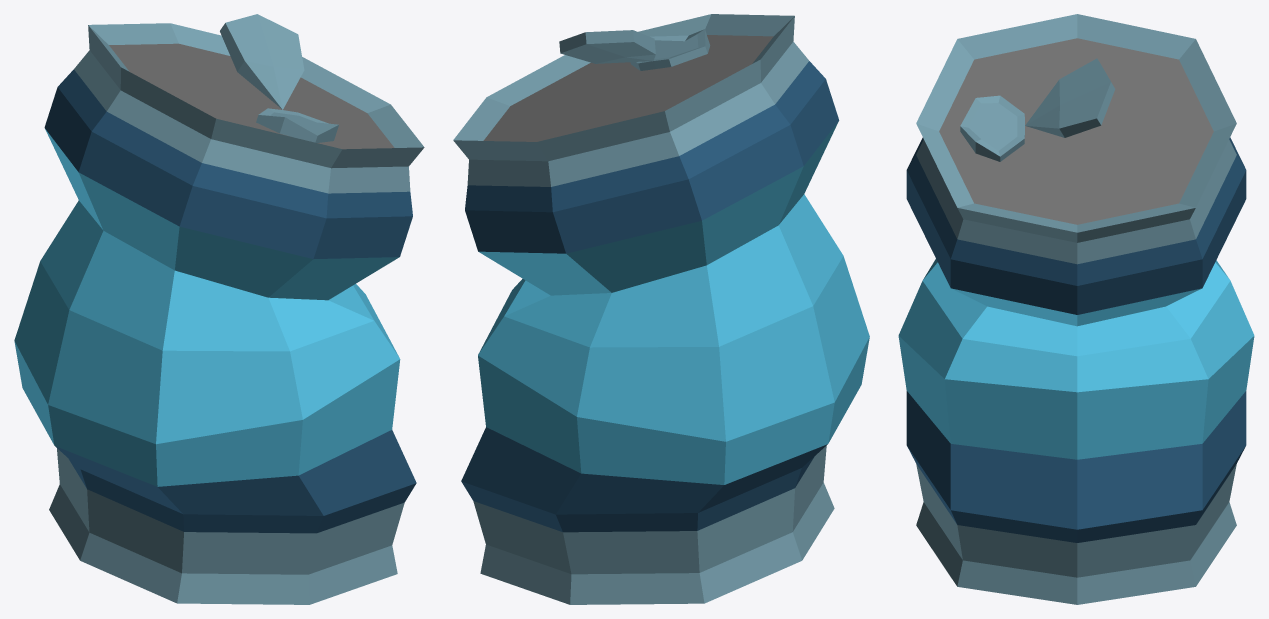
File: Empty Pop.fbx
3 views of the same model, side by side, from view 1: azimuth 30°, elevation 25°; view 2: azimuth 150°, elevation 25°; view 3: azimuth 270°, elevation 25° (orthographic). The views are drawn at different scales.
Visible parts, largest first — view 1: Empty Pop; view 2: Empty Pop; view 3: Empty Pop.
Boxes of the visible parts, box(x1,y1,x2,y2) form: Empty Pop: box(14, 14, 424, 604); Empty Pop: box(453, 14, 869, 604); Empty Pop: box(898, 14, 1254, 604).
Bounding box in the file's own units: 6.68 × 9.75 × 6.45.
